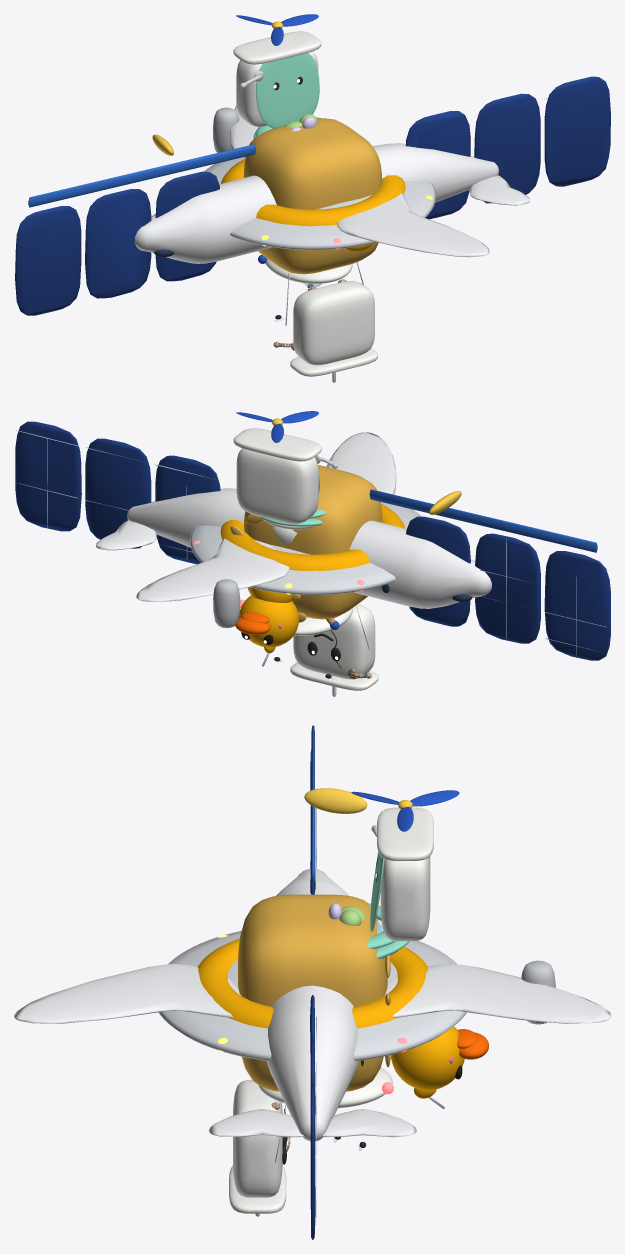
Rendered from cohete_cosas.glb.
3 views of the same model, one above another, from view 1: azimuth 30°, elevation 25°; view 2: azimuth 150°, elevation 25°; view 3: azimuth 270°, elevation 25° (orthographic). The views are drawn at different scales.
Visible parts, largest first — view 1: panel 12, fuselaje, cuerpo satélite, taza, platillo, tapa.002, taza.002, cuello patico.001, timón, motor 1; view 2: panel 12, fuselaje, taza.002, cuerpo satélite, taza, cuello patico.001, platillo, timón, motor 1, receptor, pico patico.001; view 3: fuselaje, cuerpo satélite, cuello patico.001, platillo, taza.002, taza, panel 12, ala patico 1.001, tapa.002, pico patico.001, motor 1.
Boxes of the visible parts, x1,y1,x2,y2 form: panel 12: [15, 76, 610, 315]; fuselaje: [134, 105, 529, 263]; cuerpo satélite: [243, 118, 382, 274]; taza: [265, 258, 377, 376]; platillo: [204, 157, 435, 250]; tapa.002: [256, 53, 320, 136]; taza.002: [233, 31, 321, 126]; cuello patico.001: [221, 159, 405, 252]; timón: [28, 144, 255, 207]; motor 1: [213, 107, 239, 152]; panel 12: [15, 421, 610, 660]; fuselaje: [96, 432, 491, 608]; taza.002: [233, 428, 321, 543]; cuerpo satélite: [230, 465, 382, 622]; taza: [290, 604, 378, 690]; cuello patico.001: [220, 504, 405, 653]; platillo: [190, 502, 421, 594]; timón: [369, 489, 597, 552]; motor 1: [213, 579, 240, 628]; receptor: [16, 430, 606, 666]; pico patico.001: [235, 611, 270, 634]; fuselaje: [14, 868, 610, 1141]; cuerpo satélite: [238, 894, 390, 1091]; cuello patico.001: [198, 938, 464, 1098]; platillo: [158, 931, 466, 1061]; taza.002: [377, 807, 433, 958]; taza: [229, 1067, 392, 1213]; panel 12: [310, 750, 315, 1239]; ala patico 1.001: [304, 788, 367, 813]; tapa.002: [367, 852, 394, 948]; pico patico.001: [457, 1029, 488, 1059]; motor 1: [521, 960, 555, 1024].
Bounding box in the file's own units: 3.58 × 1.83 × 2.38.
